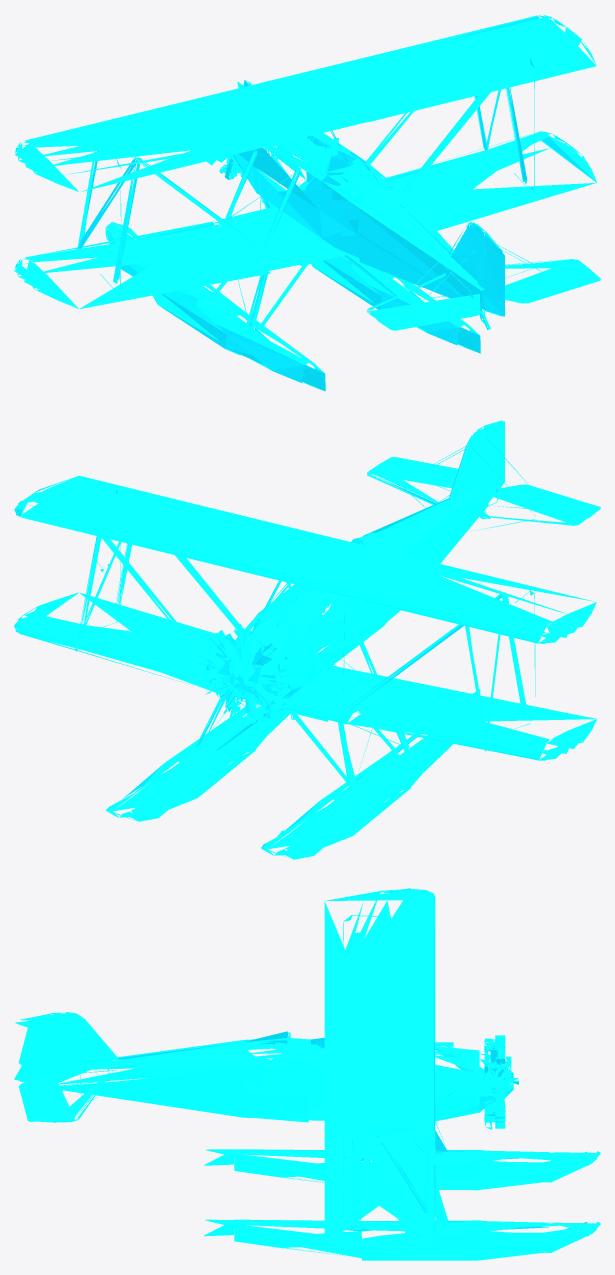
Rendered from PAAF014.glb.
3 views of the same model, one above another, from view 1: azimuth 30°, elevation 25°; view 2: azimuth 150°, elevation 25°; view 3: azimuth 270°, elevation 25° (orthographic). The views are drawn at different scales.
Visible parts, largest first — view 1: misc; view 2: misc; view 3: misc.
Part boxes in pixels (<box>): misc: <box>14,14,600,391</box>; misc: <box>14,420,600,859</box>; misc: <box>14,888,600,1260</box>.
Size of the model in its own units: 0.5068 by 0.2074 by 0.5036.
